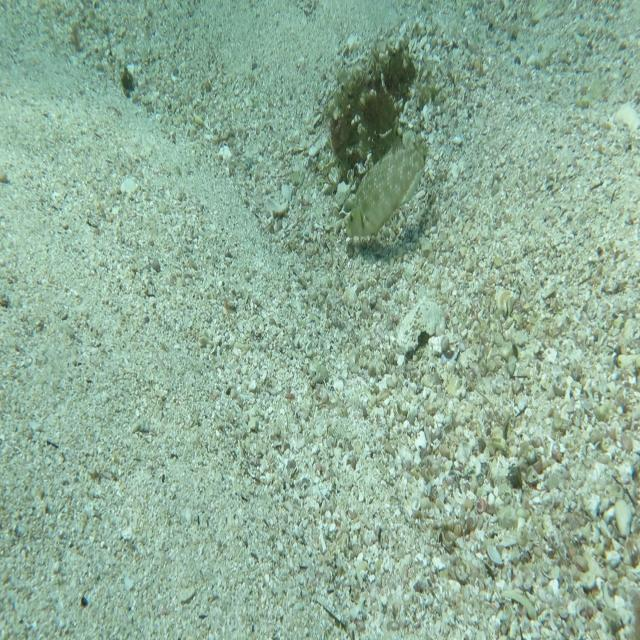NIP_OUT: (344, 127, 430, 240)
core_nest: (371, 61, 404, 100)
nest: (322, 32, 419, 200)
vegetation: (119, 67, 139, 94)
